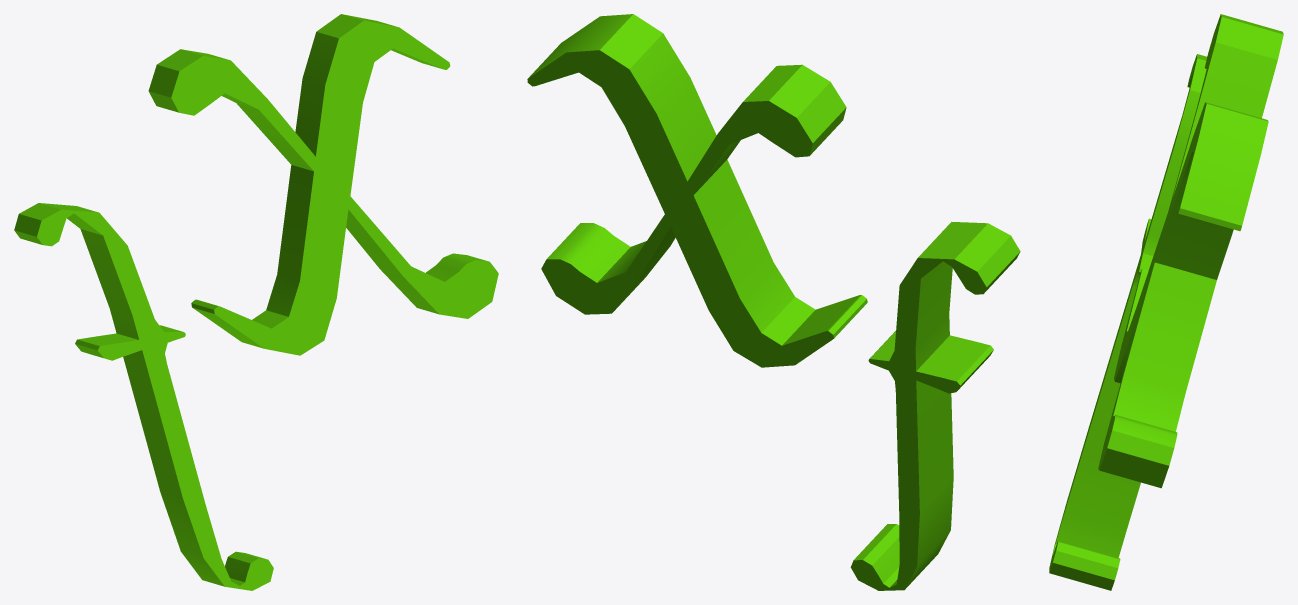
The model's file is xf_formula_A.fbx.
The picture shows the model from 3 angles, left to right: view 1: azimuth 30°, elevation 25°; view 2: azimuth 150°, elevation 25°; view 3: azimuth 270°, elevation 25°; orthographic projection. The views are drawn at different scales.
Visible parts, largest first — view 1: xf_formula_A; view 2: xf_formula_A; view 3: xf_formula_A.
Boxes of the visible parts, box(x1,y1,x2,y2) form: xf_formula_A: box(14, 14, 498, 590); xf_formula_A: box(527, 14, 1020, 590); xf_formula_A: box(1049, 14, 1283, 590).
Size of the model in its own units: 4.1 by 4.49 by 1.64.
